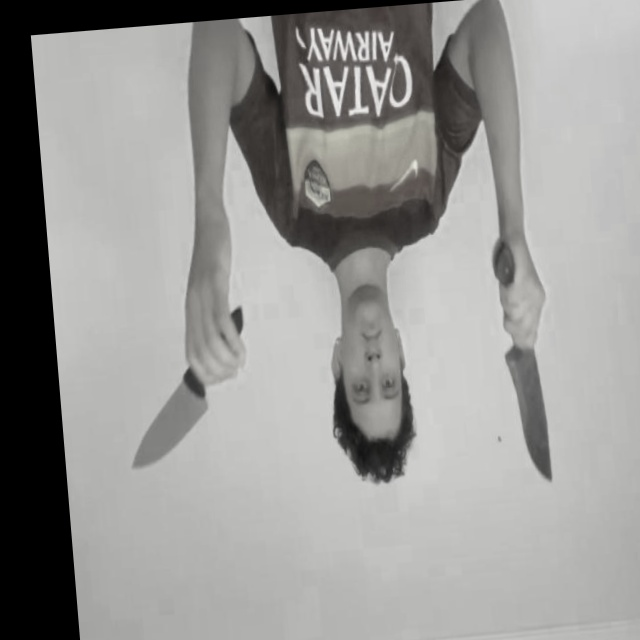Sharp-Object: (127, 386, 215, 474), (506, 344, 554, 488)
